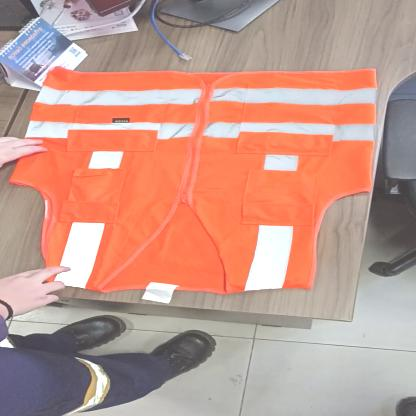colete: (12, 66, 380, 294)
